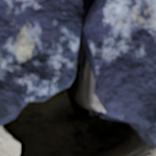broken_brick: (0, 0, 78, 123), (93, 0, 155, 145)
crack: (0, 0, 155, 155)
